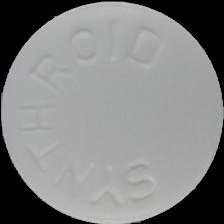0074-4552: (0, 0, 224, 224)
